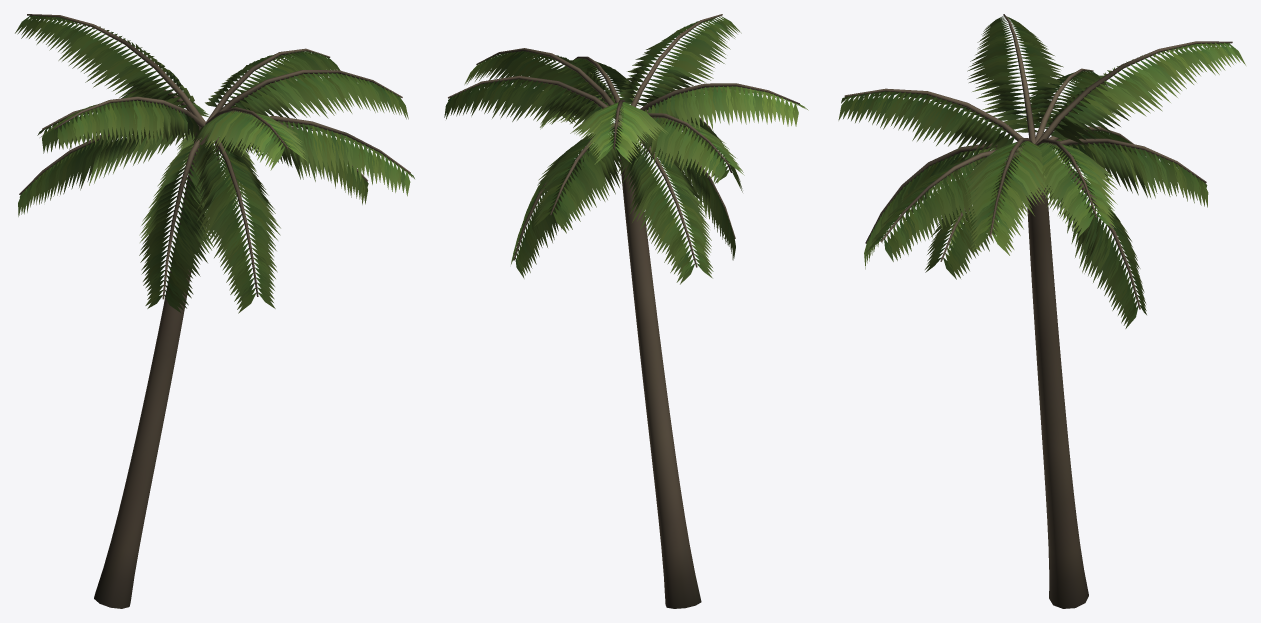
Rendered from palm-a.lod0.glb.
The picture shows the model from 3 angles, left to right: view 1: azimuth 30°, elevation 25°; view 2: azimuth 150°, elevation 25°; view 3: azimuth 270°, elevation 25°; orthographic projection. The views are drawn at different scales.
Size of the model in its own units: 5.89 by 8.69 by 5.7.
